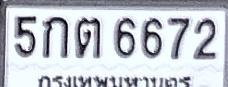2: (193, 18, 216, 59)
5: (14, 15, 36, 57)
6: (114, 16, 136, 58), (142, 17, 162, 58)
7: (168, 17, 190, 59)
A01: (42, 16, 68, 58)
A21: (75, 17, 101, 58)
